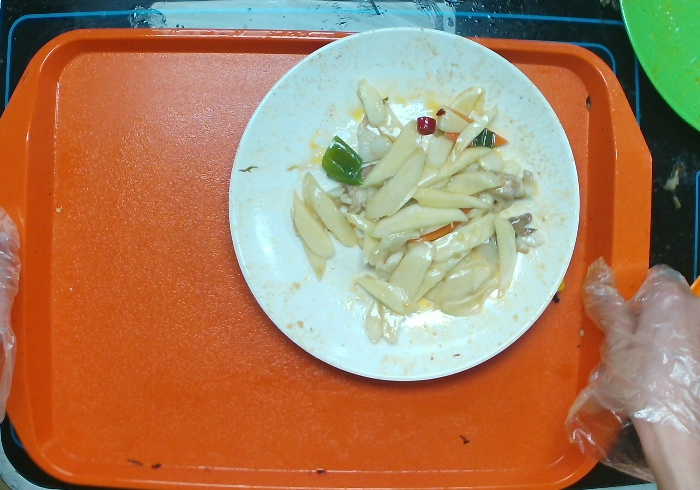HZYJPL-Bai_Se_Yuan_Pan: (223, 21, 583, 380)
